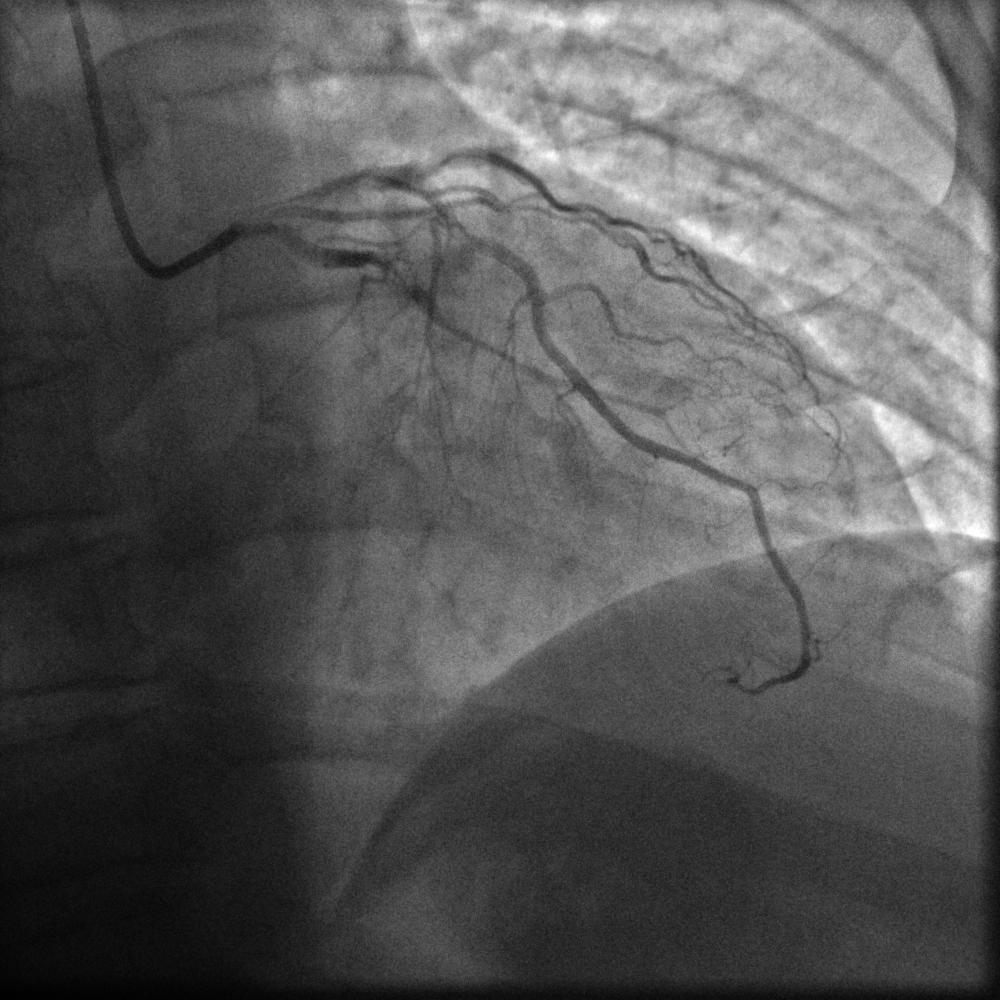Stenosis: (370, 247, 422, 311)
